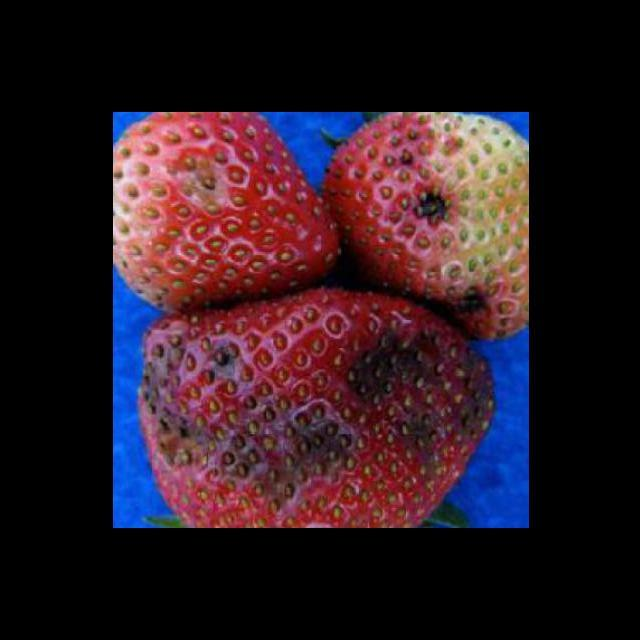Anthracnose Fruit Rot: (136, 317, 495, 525), (168, 138, 242, 223), (404, 177, 458, 233)
